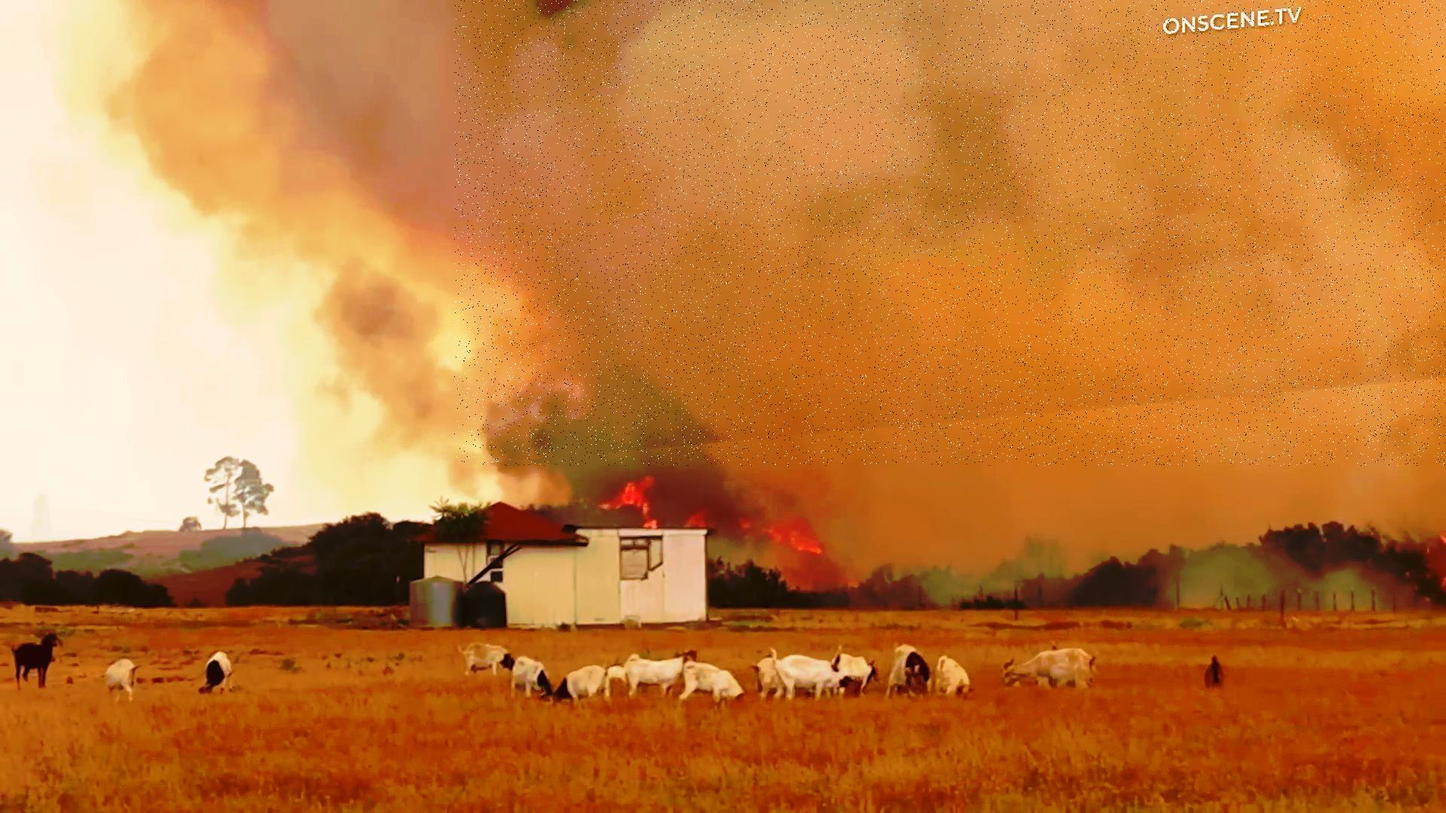smoke: (454, 0, 1446, 466)
